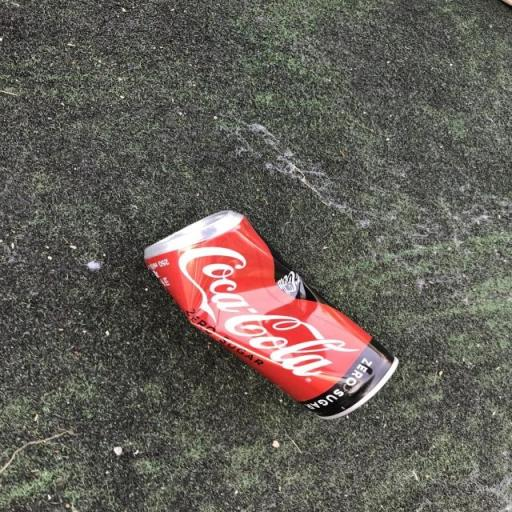metal: (125, 196, 413, 423)
